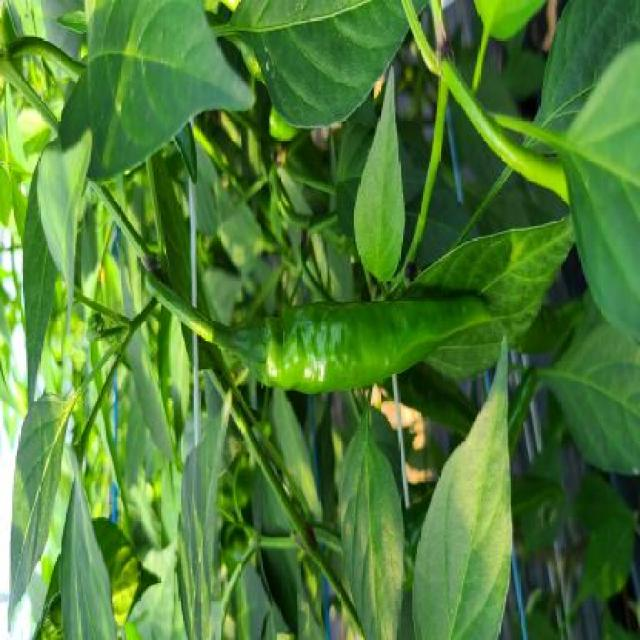green chilli: (170, 295, 492, 397)
